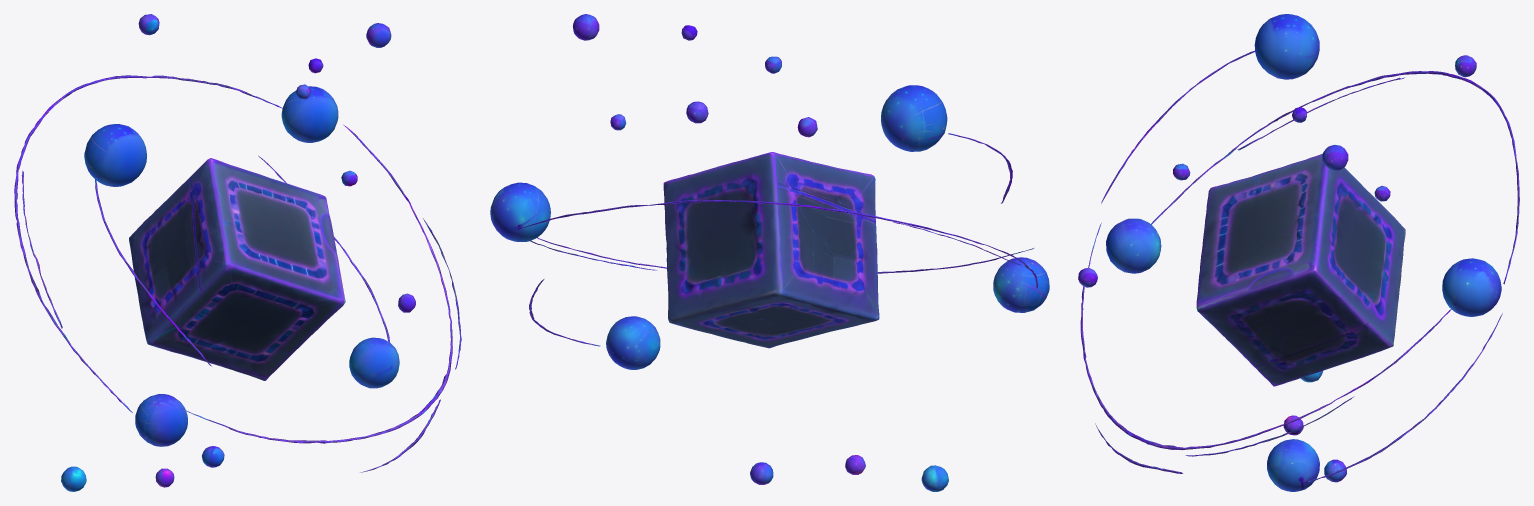
The model's file is Quantum.glb.
3 views of the same model, side by side, from view 1: azimuth 30°, elevation 25°; view 2: azimuth 150°, elevation 25°; view 3: azimuth 270°, elevation 25° (orthographic). The views are drawn at different scales.
Size of the model in its own units: 1.95 by 1.78 by 1.68.
1 material, 1 textured.
